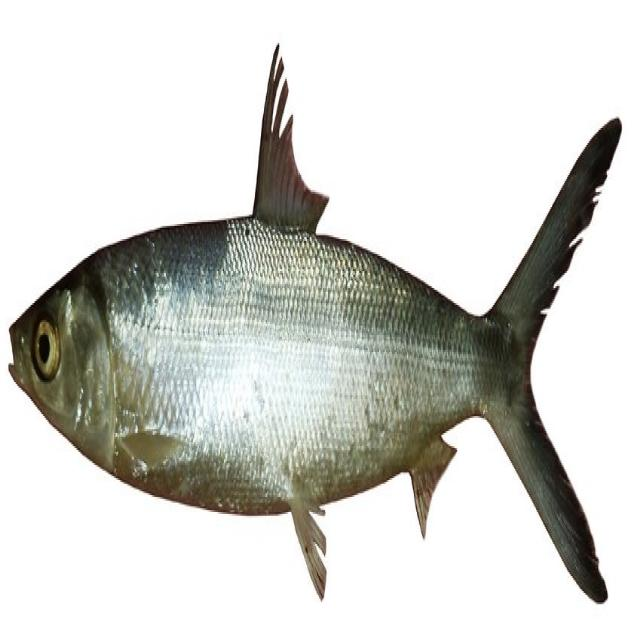Bangus: (12, 26, 640, 640)
